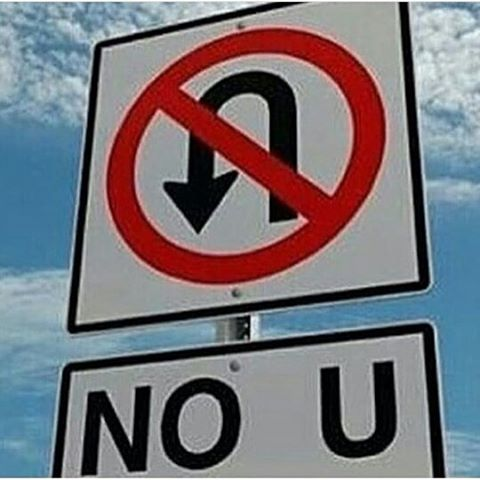No_u_turn: (105, 27, 387, 284)
